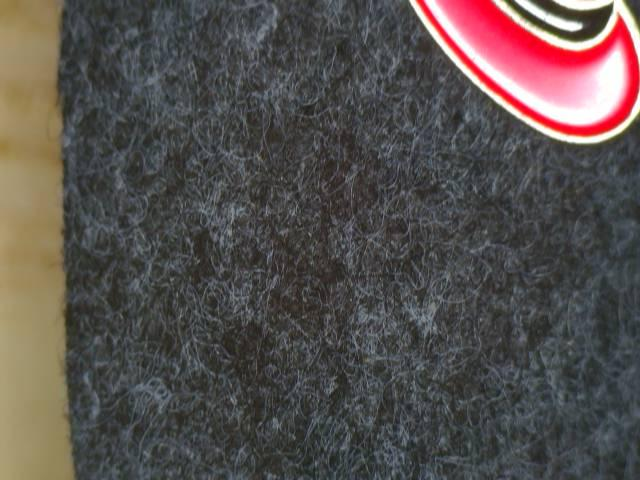Red-Hat: (387, 0, 640, 185)
